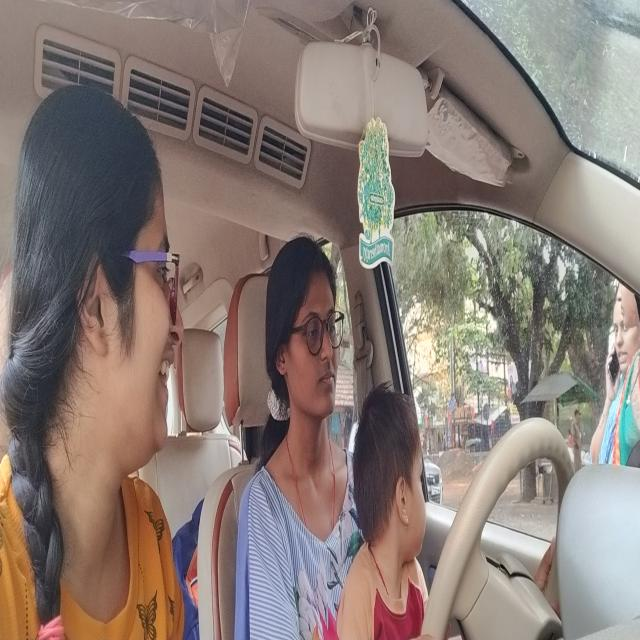child: (350, 376, 432, 568)
person: (8, 83, 185, 486), (264, 230, 346, 444)
